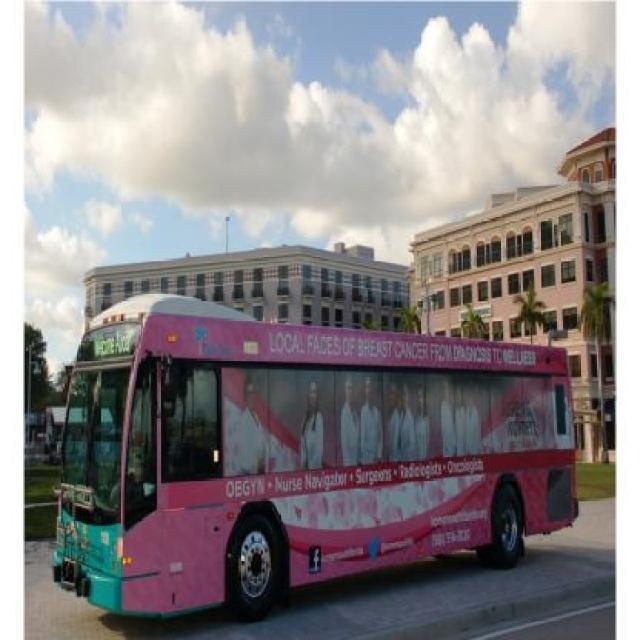Bus: (49, 294, 585, 634)
